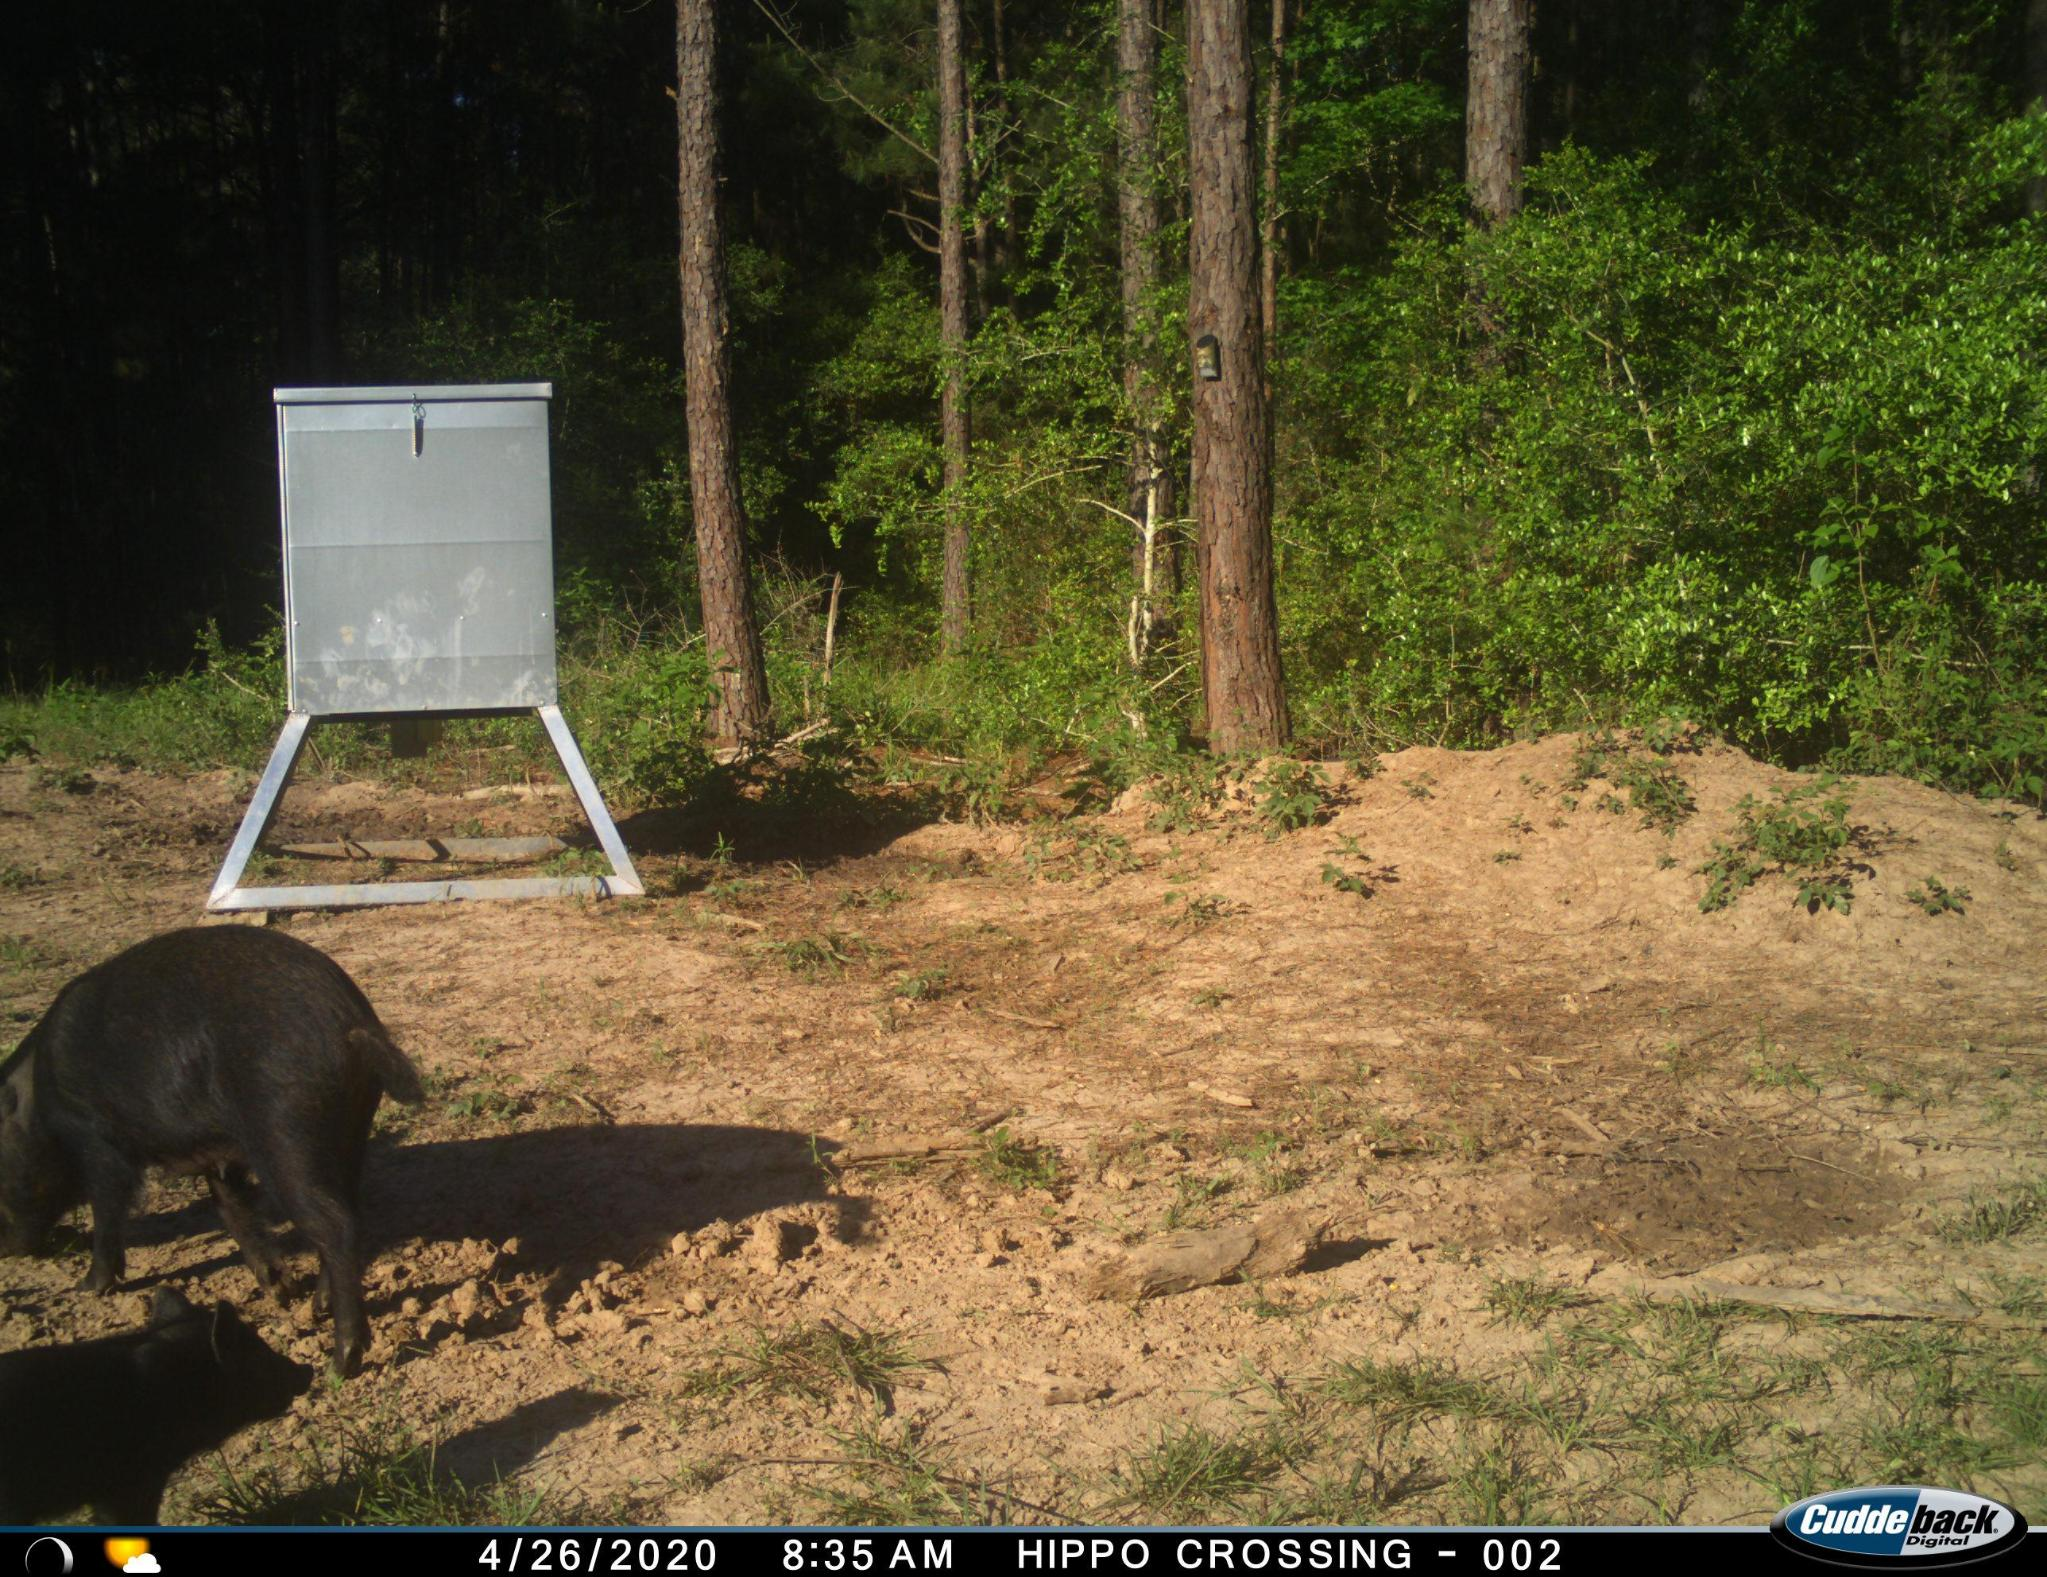Hog: (0, 923, 444, 1390)
